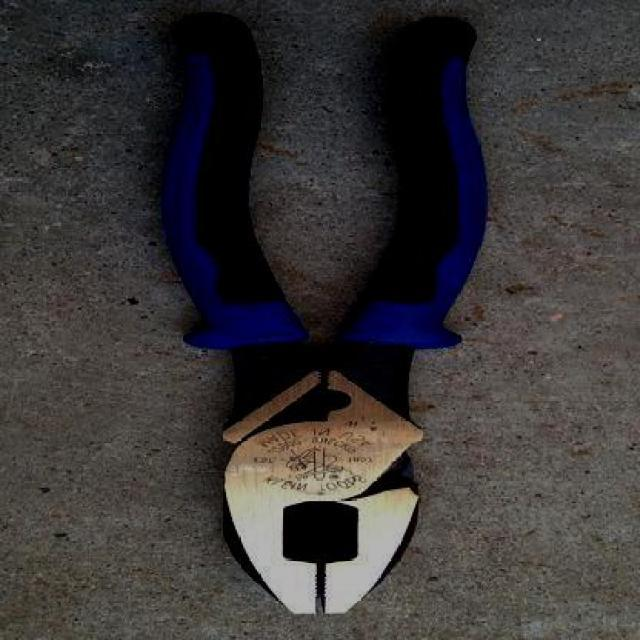pliers: (158, 20, 478, 625)
